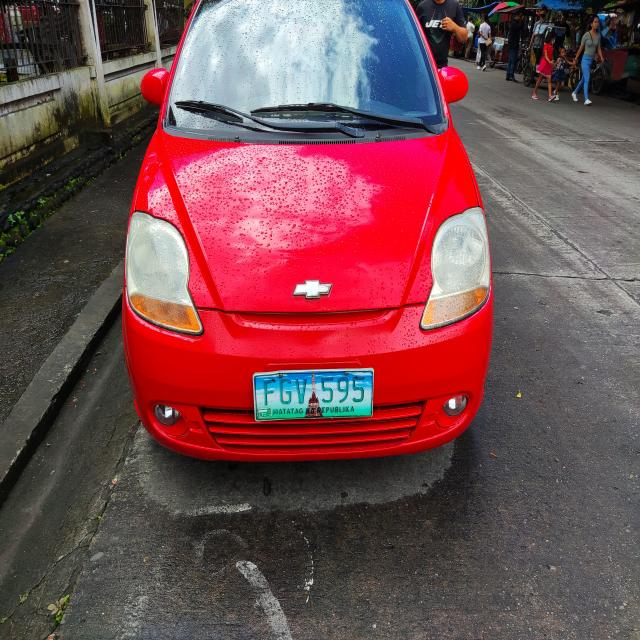plate: (248, 364, 378, 426)
